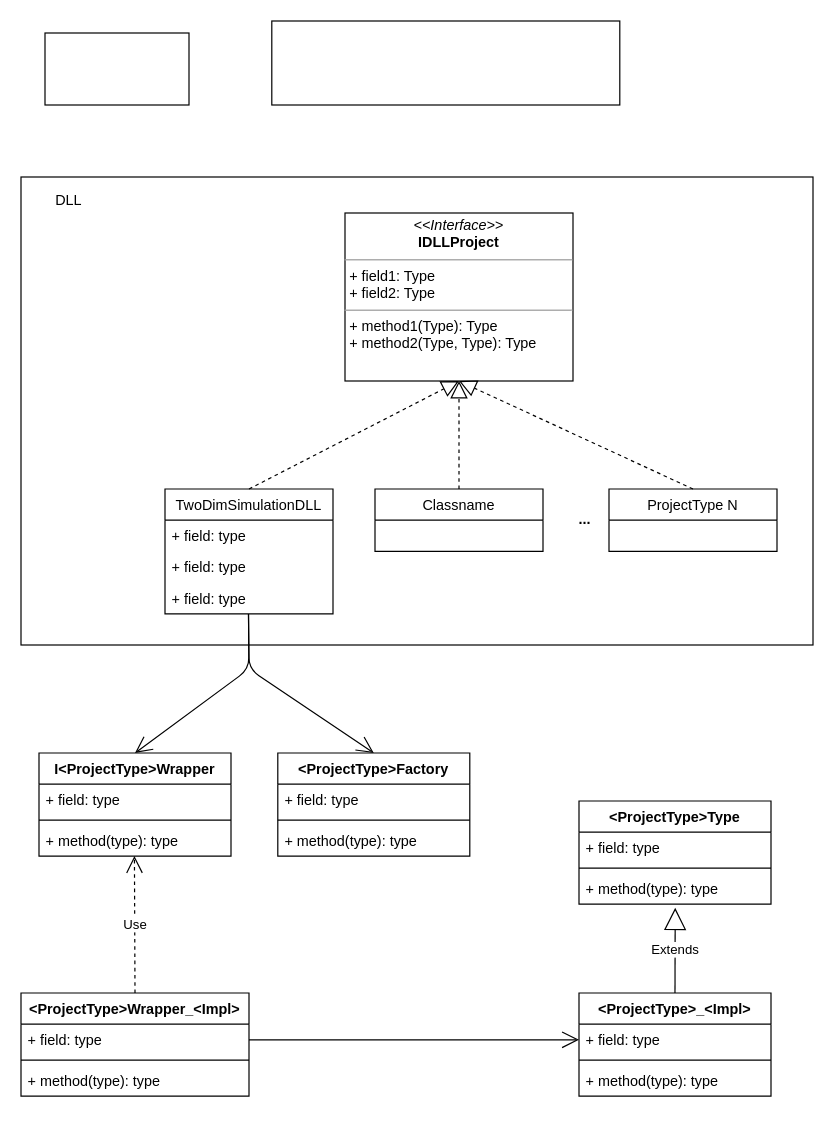
This 834x1121 diagram has some shape labels left out. Each missing label, with the centre of its shape:
<ProjectType>: <Impl>: Implementation of <ProjectType>: (445,62)
C# client: (116,68)
